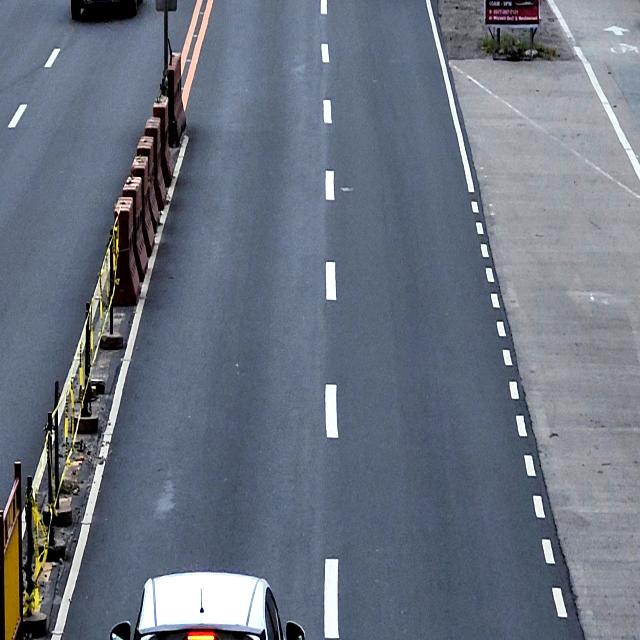Car: (110, 570, 305, 639)
